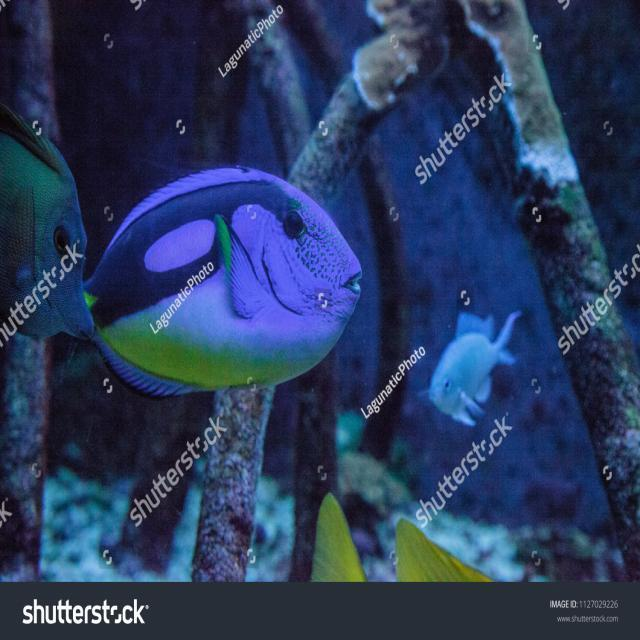TangFish: (19, 166, 367, 399)
